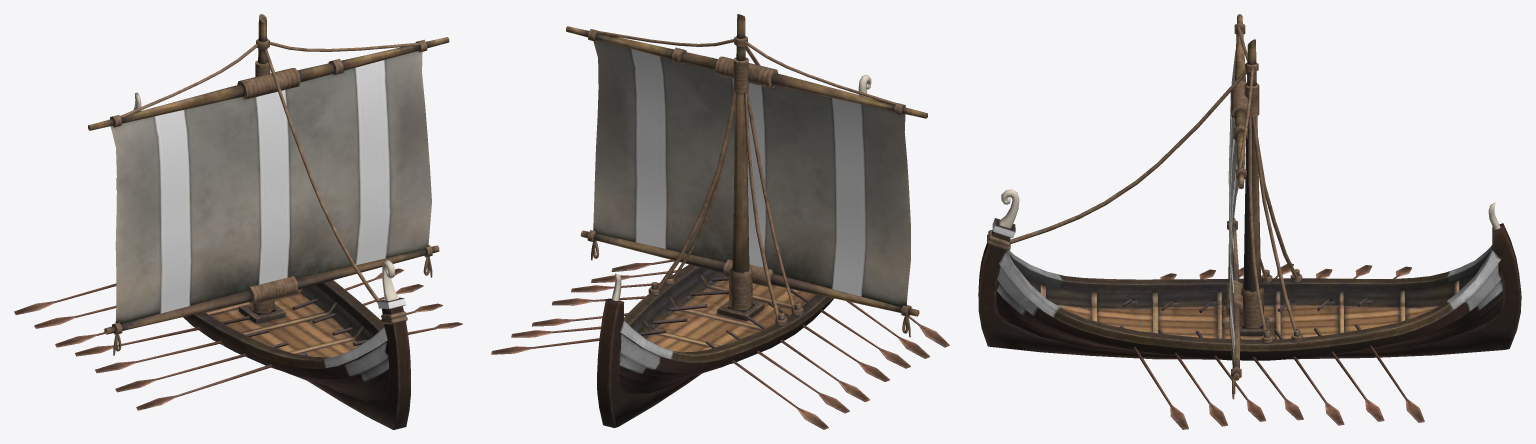
The model's file is 234-longboat.glb.
The picture shows the model from 3 angles, left to right: view 1: azimuth 30°, elevation 25°; view 2: azimuth 150°, elevation 25°; view 3: azimuth 270°, elevation 25°; orthographic projection. The views are drawn at different scales.
Size of the model in its own units: 5.28 by 4.59 by 7.13.
Materials: 4 (2 with a texture image).
